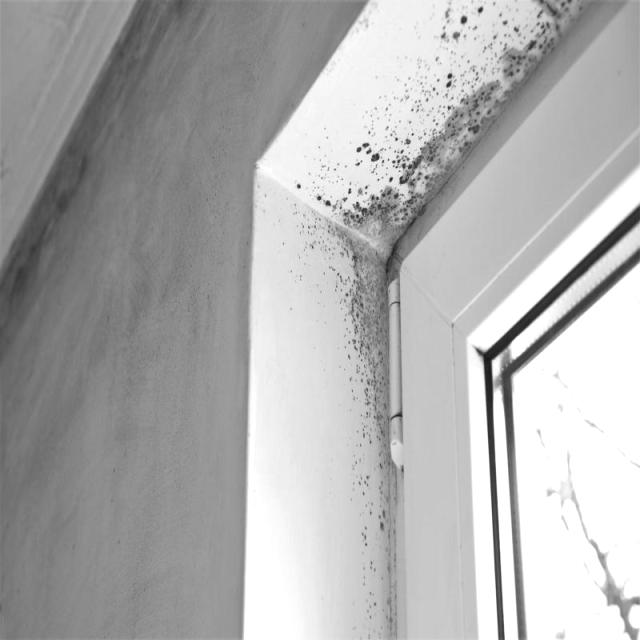stain marks: (315, 0, 577, 534)
